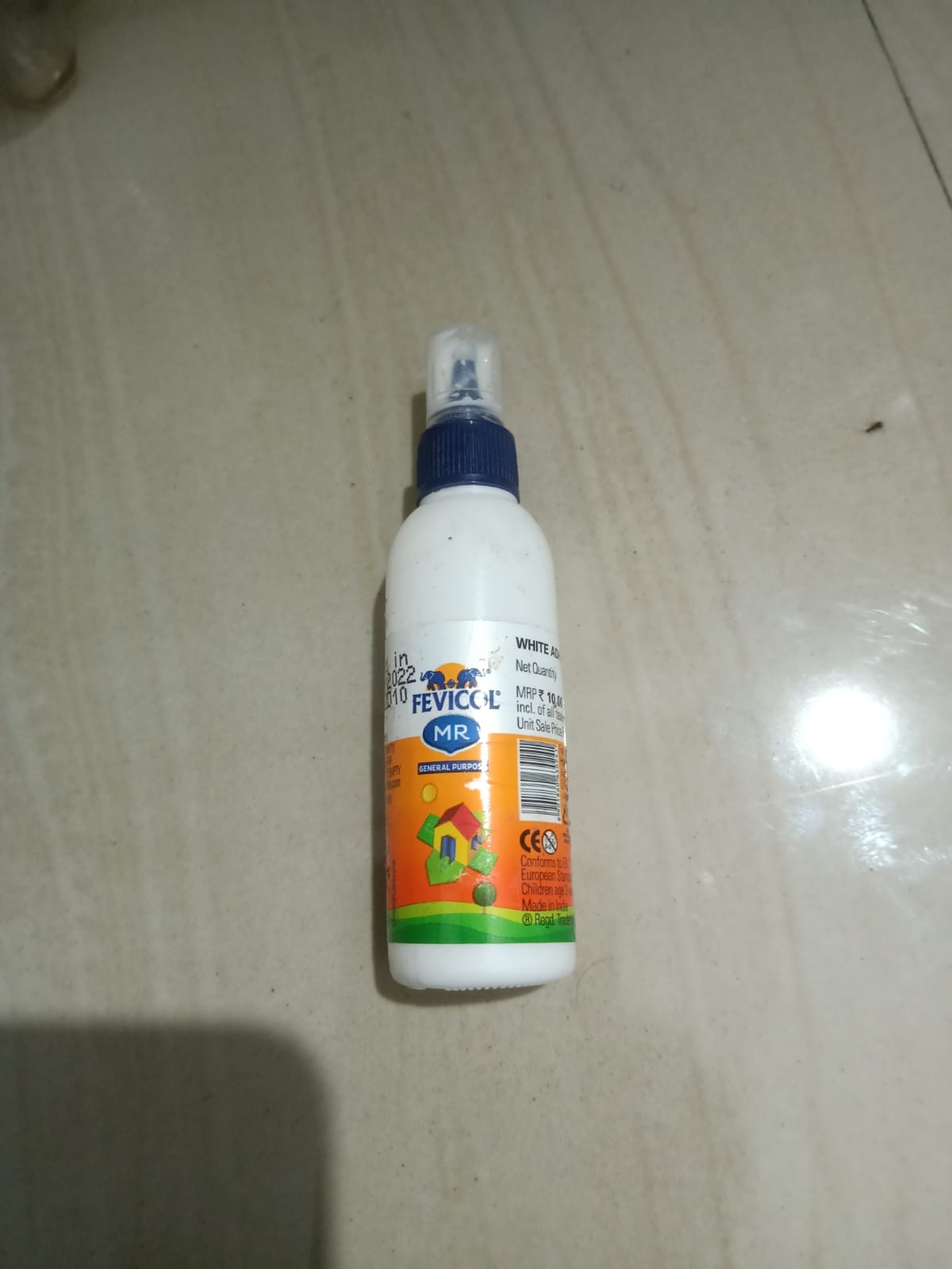plastic: (344, 299, 623, 1098)
